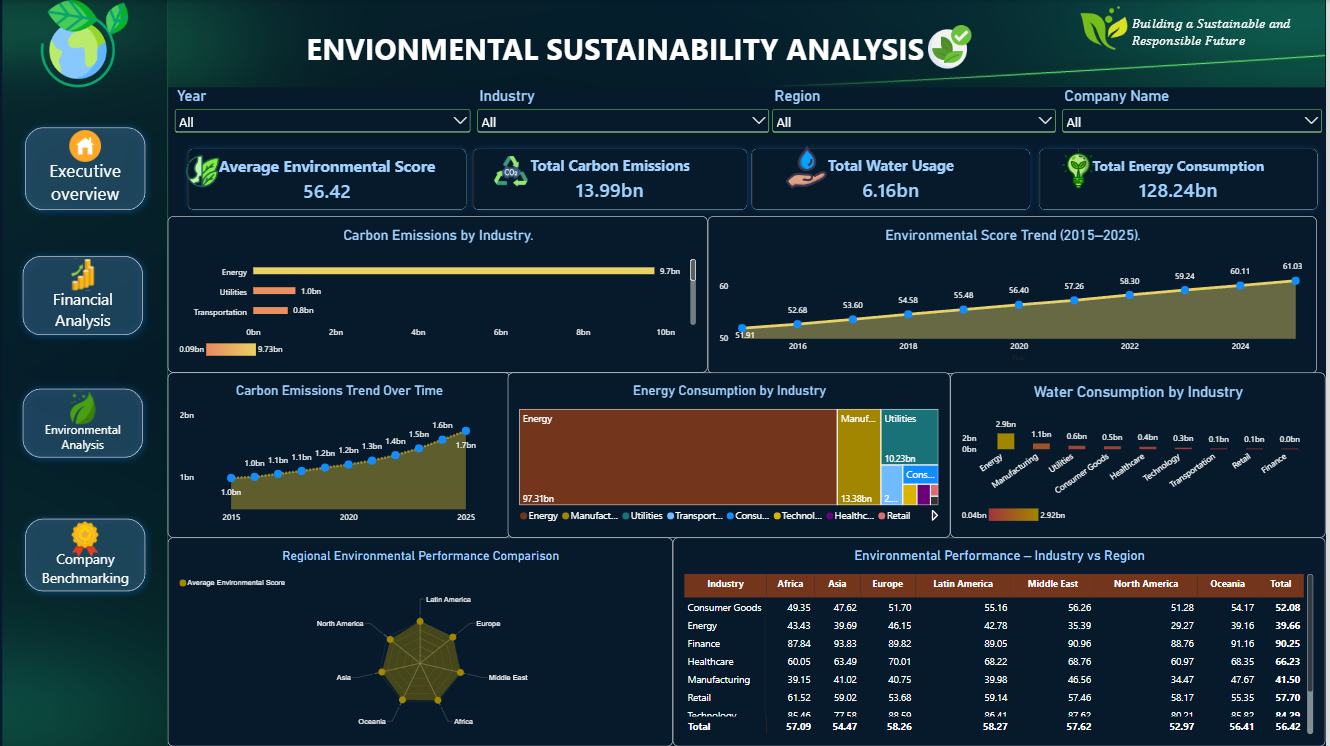

The dashboard page shown, as its layout file describes it:
{"tool":"powerbi","page":{"name":"Environmental Sustainability Analysis","canvas":[1920,1080],"ordinal":2},"visuals":[{"type":"actionButton","box":[52.5,168.3,135.7,144.8],"z":0},{"type":"image","box":[130.3,0,1789.8,126.7],"z":1000},{"type":"textbox","box":[445.2,39.8,1058.7,79.6],"z":2000},{"type":"image","box":[0,0,249.7,1080.4],"z":3000},{"type":"image","box":[59.7,0,128.5,126.7],"z":4000},{"type":"actionButton","box":[29,175.5,191.8,137.5],"z":5000},{"type":"actionButton","box":[25.3,361.9,191.8,132.1],"z":6000},{"type":"actionButton","box":[25.3,553.8,191.8,117.6],"z":7000},{"type":"actionButton","box":[29,742,191.8,123.1],"z":8000},{"type":"textbox","box":[1639.6,19.9,240.7,59.7],"z":9000},{"type":"image","box":[1559.9,9,79.6,63.3],"z":10000},{"type":"slicer","fields":{"Values":["Year_Dimension.Year"]},"box":[249.7,126.7,437.9,77.8],"z":11000},{"type":"slicer","fields":{"Values":["ESG_Company_Data.Region"]},"box":[1114.8,126.7,419.8,72.4],"z":12000},{"type":"slicer","fields":{"Values":["ESG_Company_Data.Industry"]},"box":[687.7,126.7,432.5,76],"z":13000},{"type":"slicer","fields":{"Values":["ESG_Company_Data.Company Name"]},"box":[1534.6,126.7,385.5,67],"z":14000},{"type":"cardVisual","fields":{"Data":["ESG_Company_Data.Average Environmental Score"]},"box":[262.4,204.5,425.3,110.4],"z":15000},{"type":"cardVisual","fields":{"Data":["ESG_Company_Data.Total Carbon Emissions"]},"box":[675,204.5,419.8,110.4],"z":16000},{"type":"cardVisual","fields":{"Data":["ESG_Company_Data.Total Water Usage"]},"box":[1078.6,204.5,425.3,110.4],"z":17000},{"type":"cardVisual","fields":{"Data":["ESG_Company_Data.Total Energy Consumption"]},"box":[1494.8,204.5,425.3,110.4],"z":18000},{"type":"lineChart","title":"Environmental Score Trend (2015–2025).","fields":{"Category":["Year_Dimension.Year"],"Y":["ESG_Company_Data.Average Environmental Score"]},"box":[1026.1,313.1,881.3,228],"z":19000},{"type":"clusteredBarChart","title":"Carbon Emissions by Industry.","fields":{"Category":["ESG_Company_Data.Industry"],"Y":["ESG_Company_Data.Total Carbon Emissions"]},"box":[244.3,313.1,781.8,226.2],"z":20000},{"type":"areaChart","title":"Carbon Emissions Trend Over Time","fields":{"Category":["Year_Dimension.Year"],"Y":["ESG_Company_Data.Total Carbon Emissions"]},"box":[244.3,539.3,495.8,238.9],"z":21000},{"type":"clusteredColumnChart","title":"Water Consumption by Industry","fields":{"Category":["ESG_Company_Data.Industry"],"Y":["ESG_Company_Data.Total Water Usage"]},"box":[1377.2,539.3,542.9,238.9],"z":22000},{"type":"pivotTable","title":"Environmental Performance – Industry vs Region","fields":{"Columns":["ESG_Company_Data.Region"],"Rows":["ESG_Company_Data.Industry"],"Values":["ESG_Company_Data.Average Environmental Score"]},"box":[975.4,778.2,944.6,302.2],"z":23000},{"type":"treemap","title":"Energy Consumption by Industry","fields":{"Group":["ESG_Company_Data.Industry"],"Values":["ESG_Company_Data.Total Energy Consumption"]},"box":[736.5,539.3,640.6,238.9],"z":24000},{"type":"image","box":[262.4,222.6,63.3,50.7],"z":25000},{"type":"image","box":[1342.8,25.3,67,85.1],"z":26000},{"type":"image","box":[711.2,222.6,59.7,50.7],"z":27000},{"type":"image","box":[1136.5,211.7,65.1,61.5],"z":28000},{"type":"image","box":[1525.5,215.3,74.2,57.9],"z":29000},{"type":"RadarChart1446119667547","title":"Regional Environmental Performance Comparison","fields":{"Category":["ESG_Company_Data.Region"],"Y":["ESG_Company_Data.Average Environmental Score"]},"box":[244.3,778.2,731.1,302.2],"z":30000}]}

Visuals, with their boxes in screenshot pixels (x1, y1, x2, y2), scaled from the page's 1920x1080 canvas onto the 1330x746 screenshot:
actionButton: detection(36, 116, 130, 216)
image: detection(90, 0, 1329, 88)
textbox: detection(308, 27, 1042, 82)
image: detection(0, 0, 173, 745)
image: detection(41, 0, 130, 88)
actionButton: detection(20, 121, 153, 216)
actionButton: detection(18, 250, 150, 341)
actionButton: detection(18, 383, 150, 464)
actionButton: detection(20, 513, 153, 598)
textbox: detection(1136, 14, 1302, 55)
image: detection(1081, 6, 1136, 50)
slicer - Year_Dimension.Year: detection(173, 88, 476, 141)
slicer - ESG_Company_Data.Region: detection(772, 88, 1063, 138)
slicer - ESG_Company_Data.Industry: detection(476, 88, 776, 140)
slicer - ESG_Company_Data.Company Name: detection(1063, 88, 1329, 134)
cardVisual - ESG_Company_Data.Average Environmental Score: detection(182, 141, 476, 218)
cardVisual - ESG_Company_Data.Total Carbon Emissions: detection(468, 141, 758, 218)
cardVisual - ESG_Company_Data.Total Water Usage: detection(747, 141, 1042, 218)
cardVisual - ESG_Company_Data.Total Energy Consumption: detection(1035, 141, 1329, 218)
"Environmental Score Trend (2015–2025)." lineChart: detection(711, 216, 1321, 374)
"Carbon Emissions by Industry." clusteredBarChart: detection(169, 216, 711, 373)
"Carbon Emissions Trend Over Time" areaChart: detection(169, 373, 513, 538)
"Water Consumption by Industry" clusteredColumnChart: detection(954, 373, 1329, 538)
"Environmental Performance – Industry vs Region" pivotTable: detection(676, 538, 1329, 745)
"Energy Consumption by Industry" treemap: detection(510, 373, 954, 538)
image: detection(182, 154, 226, 189)
image: detection(930, 17, 977, 76)
image: detection(493, 154, 534, 189)
image: detection(787, 146, 832, 189)
image: detection(1057, 149, 1108, 189)
"Regional Environmental Performance Comparison" RadarChart1446119667547: detection(169, 538, 676, 745)
